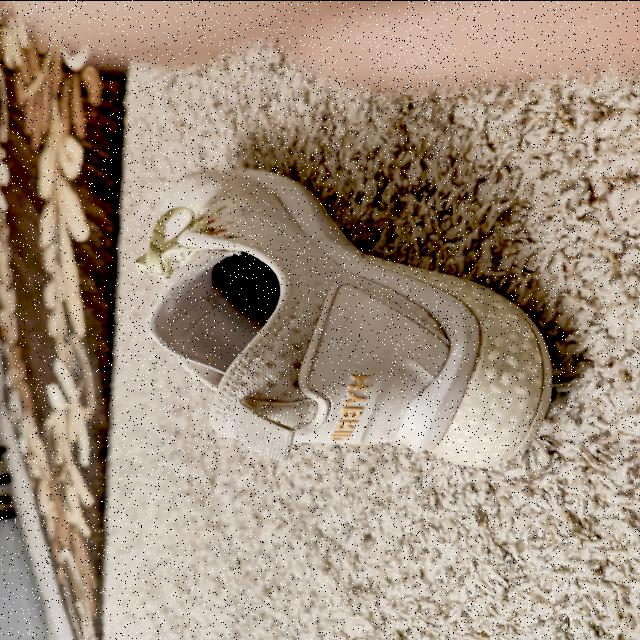white shoes: (149, 162, 552, 460)
